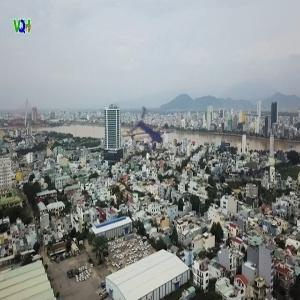drone: (126, 106, 186, 166)
